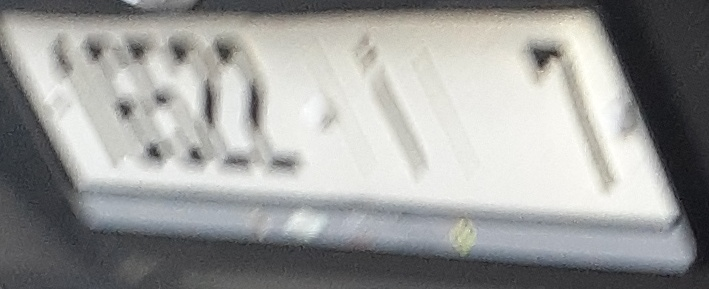2: (209, 35, 306, 178)
7: (520, 42, 624, 195)
a: (349, 32, 439, 186)
